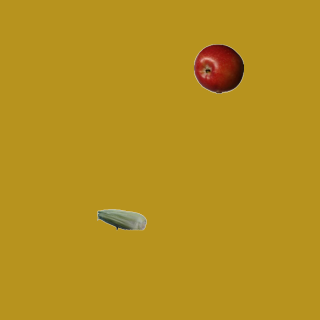Apple Braeburn: (193, 43, 243, 93)
Corn Husk: (96, 194, 146, 244)
